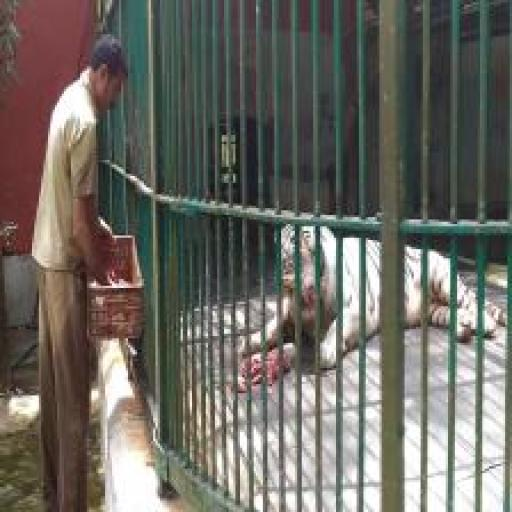Tiger: (231, 210, 512, 378)
